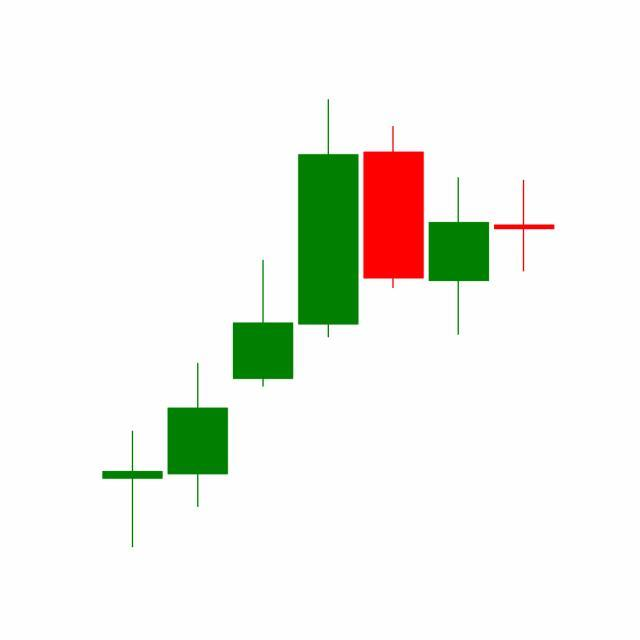Hikkake Pattern: (165, 100, 492, 513)
